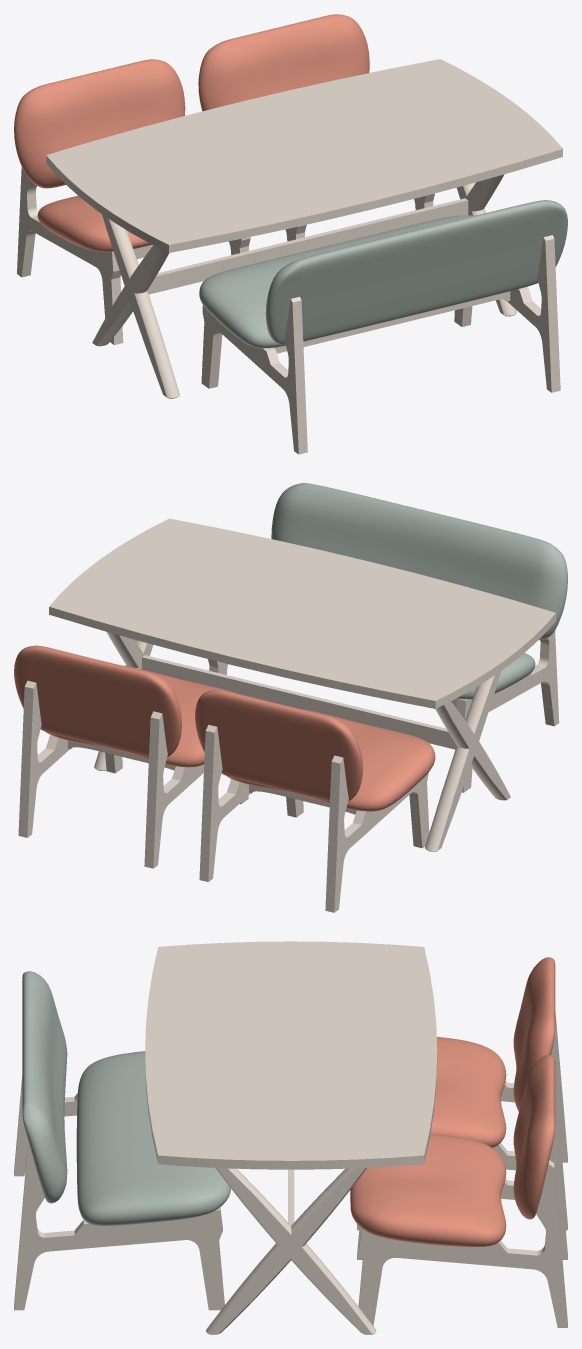
File: 579_ダイニングローテーブルセット4人掛け.glb
3 views of the same model, one above another, from view 1: azimuth 30°, elevation 25°; view 2: azimuth 150°, elevation 25°; view 3: azimuth 270°, elevation 25° (orthographic). The views are drawn at different scales.
Visible parts, largest first — view 1: Body, chair3, chair1, chair2; view 2: Body, chair1, chair3, chair2; view 3: Body, chair3, chair2, chair1.
Part boxes in pixels (<box>): Body: <box>46,59,562,398</box>; chair3: <box>199,200,567,454</box>; chair1: <box>14,59,250,344</box>; chair2: <box>198,14,434,241</box>; Body: <box>49,518,556,851</box>; chair1: <box>195,690,435,912</box>; chair3: <box>208,483,567,792</box>; chair2: <box>14,645,248,868</box>; Body: <box>145,941,437,1334</box>; chair3: <box>14,971,230,1310</box>; chair2: <box>350,1055,567,1327</box>; chair1: <box>357,957,567,1230</box>.
Size of the model in its own units: 1.6 by 0.7011 by 1.71.
